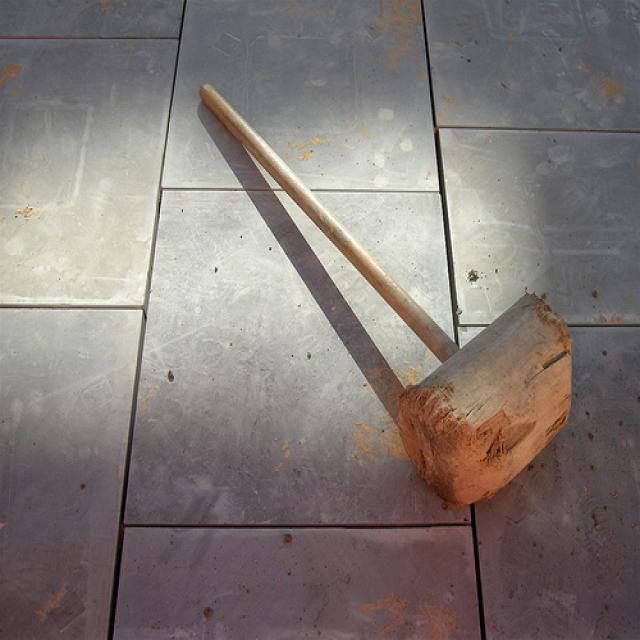hammer: (196, 74, 588, 526)
